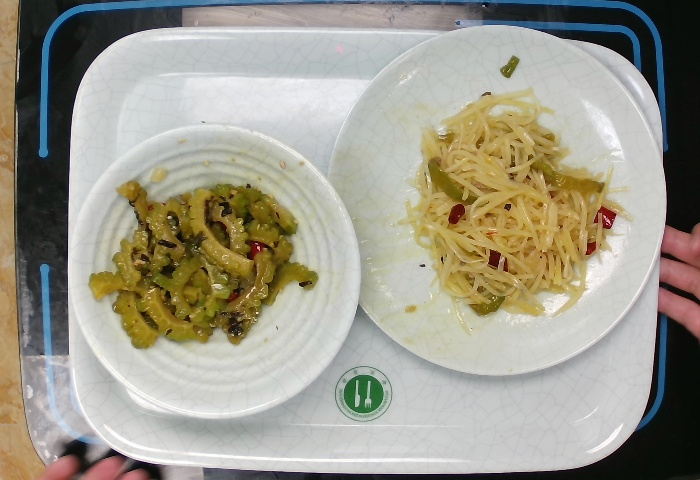JYsf-Da_Yuan_Pan: (320, 20, 669, 381)
JYsf-Xiao_Tang_Wan: (62, 119, 365, 427)
